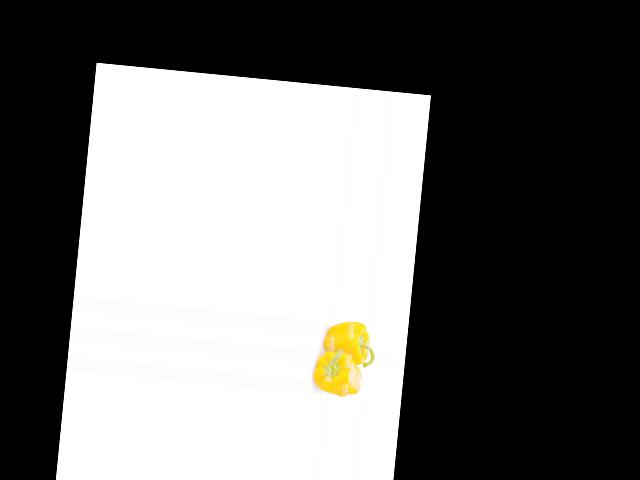bell_pepper: (321, 317, 376, 370)
